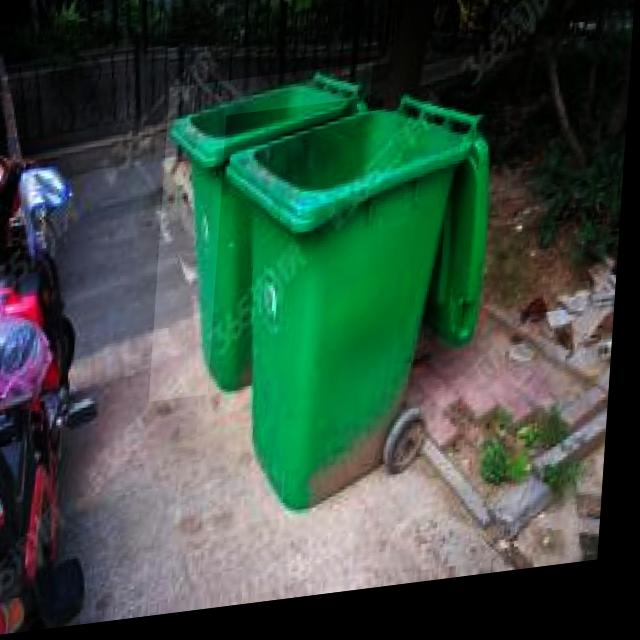garbage_bin: (207, 95, 499, 532), (155, 73, 374, 407)
